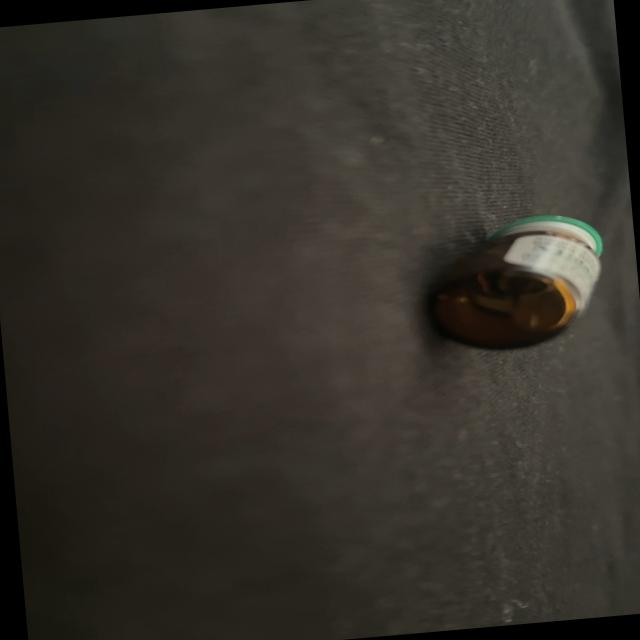midazolm: (422, 213, 607, 354)
